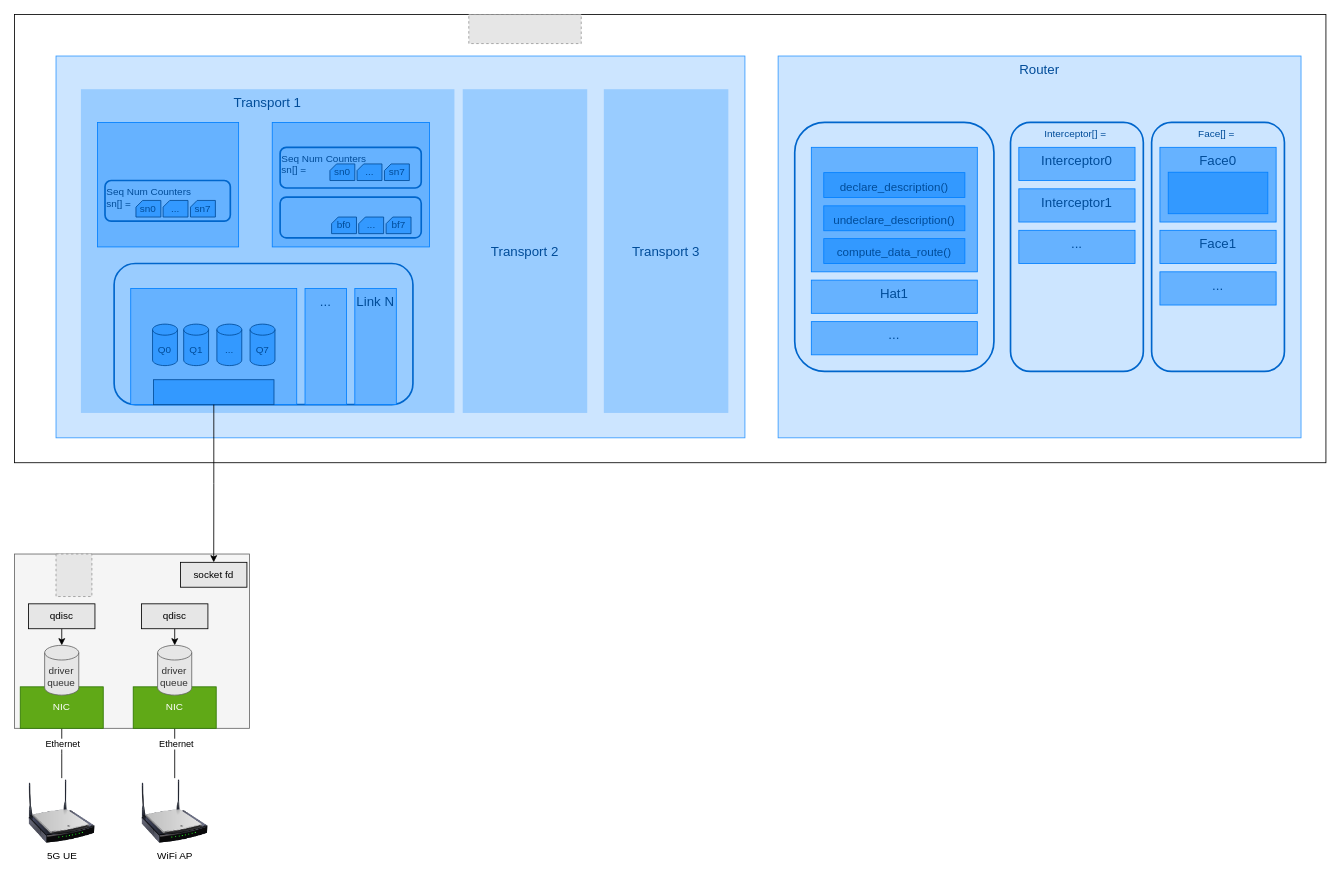
This 1340x876 diagram has some shape labels left out. Grey dashed boxes stand in for pictures. Here are the shapes that lost their labels. From the top down, the box of each, then its label:
(97, 122, 239, 247): TX
(271, 122, 430, 247): RX
(1167, 171, 1268, 214): Resources[] (subscriptions, etc)
(279, 196, 422, 238): Defrag Buffers defrag[] =
(810, 146, 977, 272): Hat0
(55, 55, 745, 438): Tramsport[] =
(14, 14, 1326, 463): Runtime (Userspace)
(793, 121, 994, 372): HatCode[] =
(130, 288, 297, 405): Link 0
(113, 262, 413, 405): Links[] =
(153, 379, 274, 405): {TCP/UDP/...} Link
(14, 553, 249, 728): Linux Kernel
